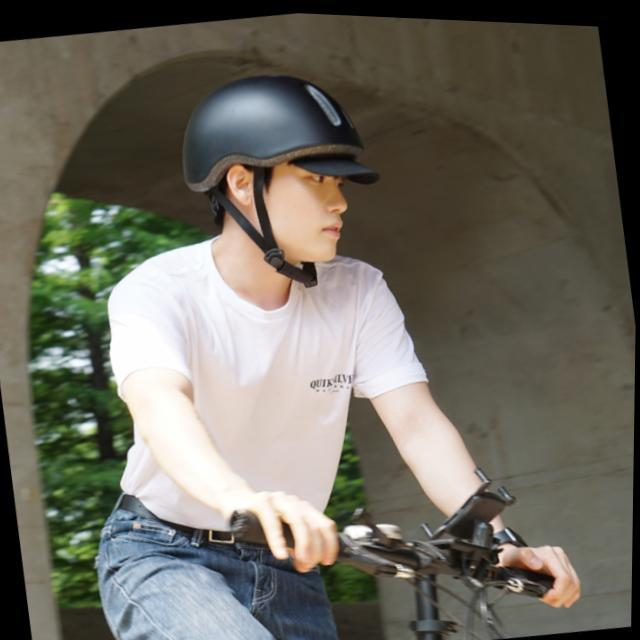Helmet: (172, 48, 363, 294)
